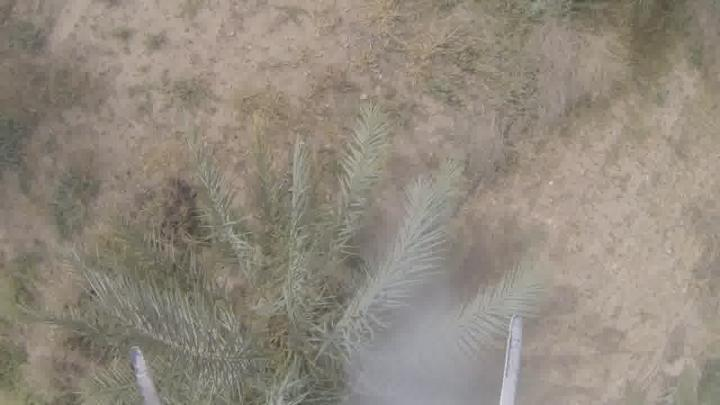Date-Palm-Crown: (176, 214, 454, 404)
